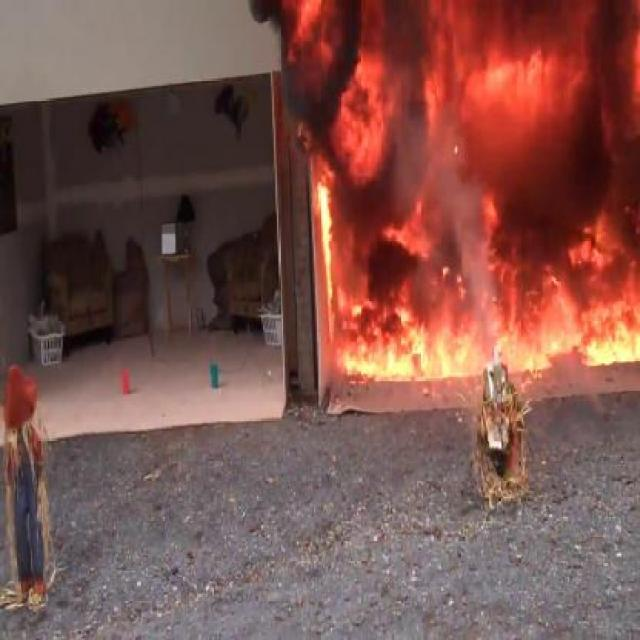fire: (316, 206, 606, 392)
smoke: (268, 11, 628, 151)
